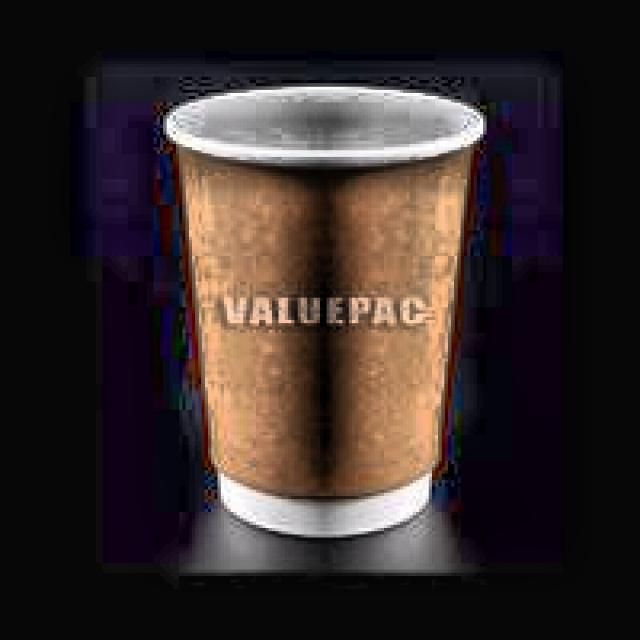Cup: (163, 73, 485, 552)
